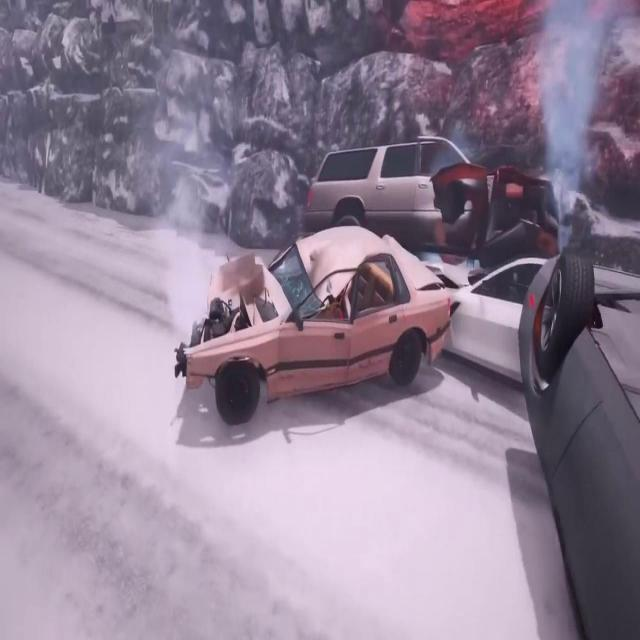severe: (170, 226, 573, 432), (517, 242, 640, 640), (303, 133, 567, 269)
